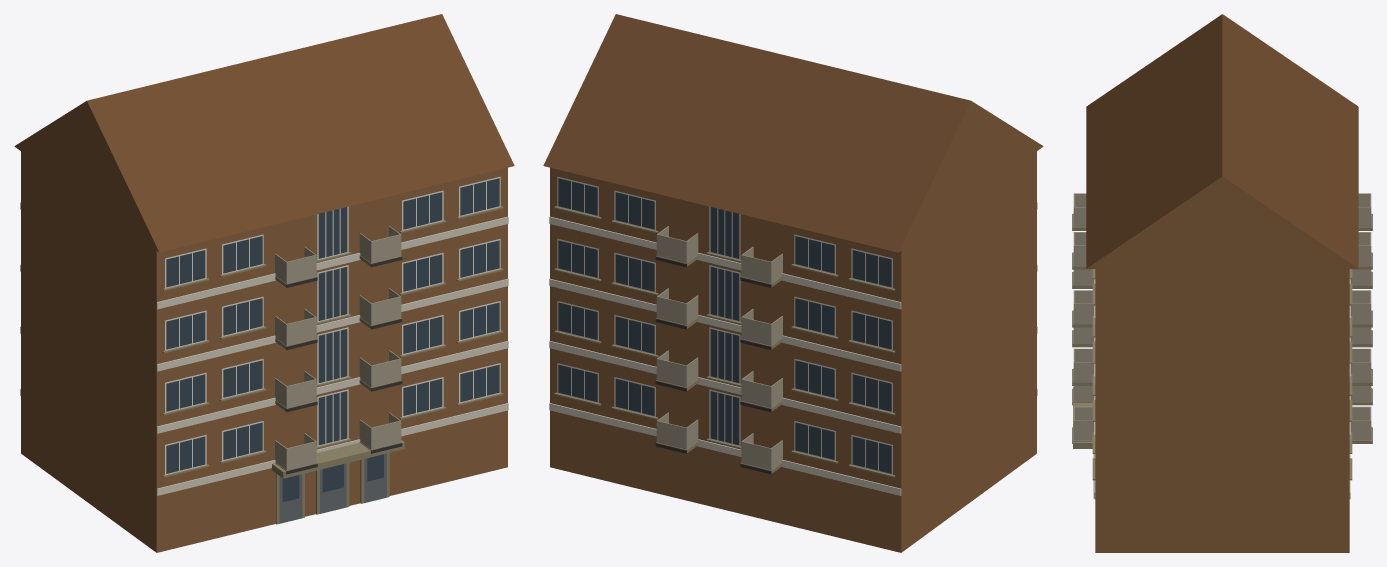
The model's file is nw-glazed-tower-red-pitched__brick-red__5__gable__long__solid.glb.
The picture shows the model from 3 angles, left to right: view 1: azimuth 30°, elevation 25°; view 2: azimuth 150°, elevation 25°; view 3: azimuth 270°, elevation 25°; orthographic projection. The views are drawn at different scales.
Parts seen in each view (by area): view 1: nw-glazed-tower-red-pitched__brick-red__5__gable__long__soli; view 2: nw-glazed-tower-red-pitched__brick-red__5__gable__long__soli; view 3: nw-glazed-tower-red-pitched__brick-red__5__gable__long__soli.
Part boxes in pixels (x1,y1,x2,y2): nw-glazed-tower-red-pitched__brick-red__5__gable__long__soli: [14, 14, 514, 552]; nw-glazed-tower-red-pitched__brick-red__5__gable__long__soli: [543, 14, 1043, 552]; nw-glazed-tower-red-pitched__brick-red__5__gable__long__soli: [1072, 14, 1372, 552].
Size of the model in its own units: 17.24 by 18.7 by 13.47.
